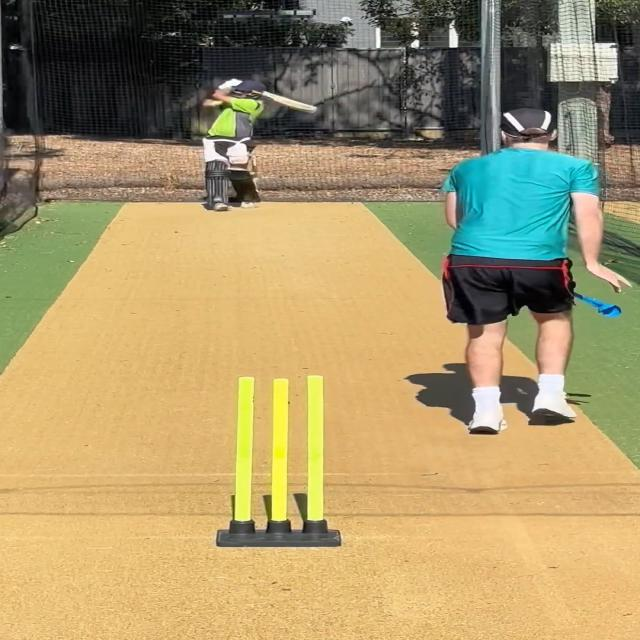stump: (211, 371, 345, 547)
